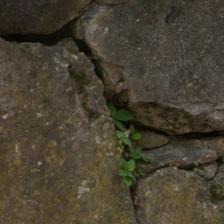Crack: (27, 97, 80, 224), (68, 72, 132, 157)
